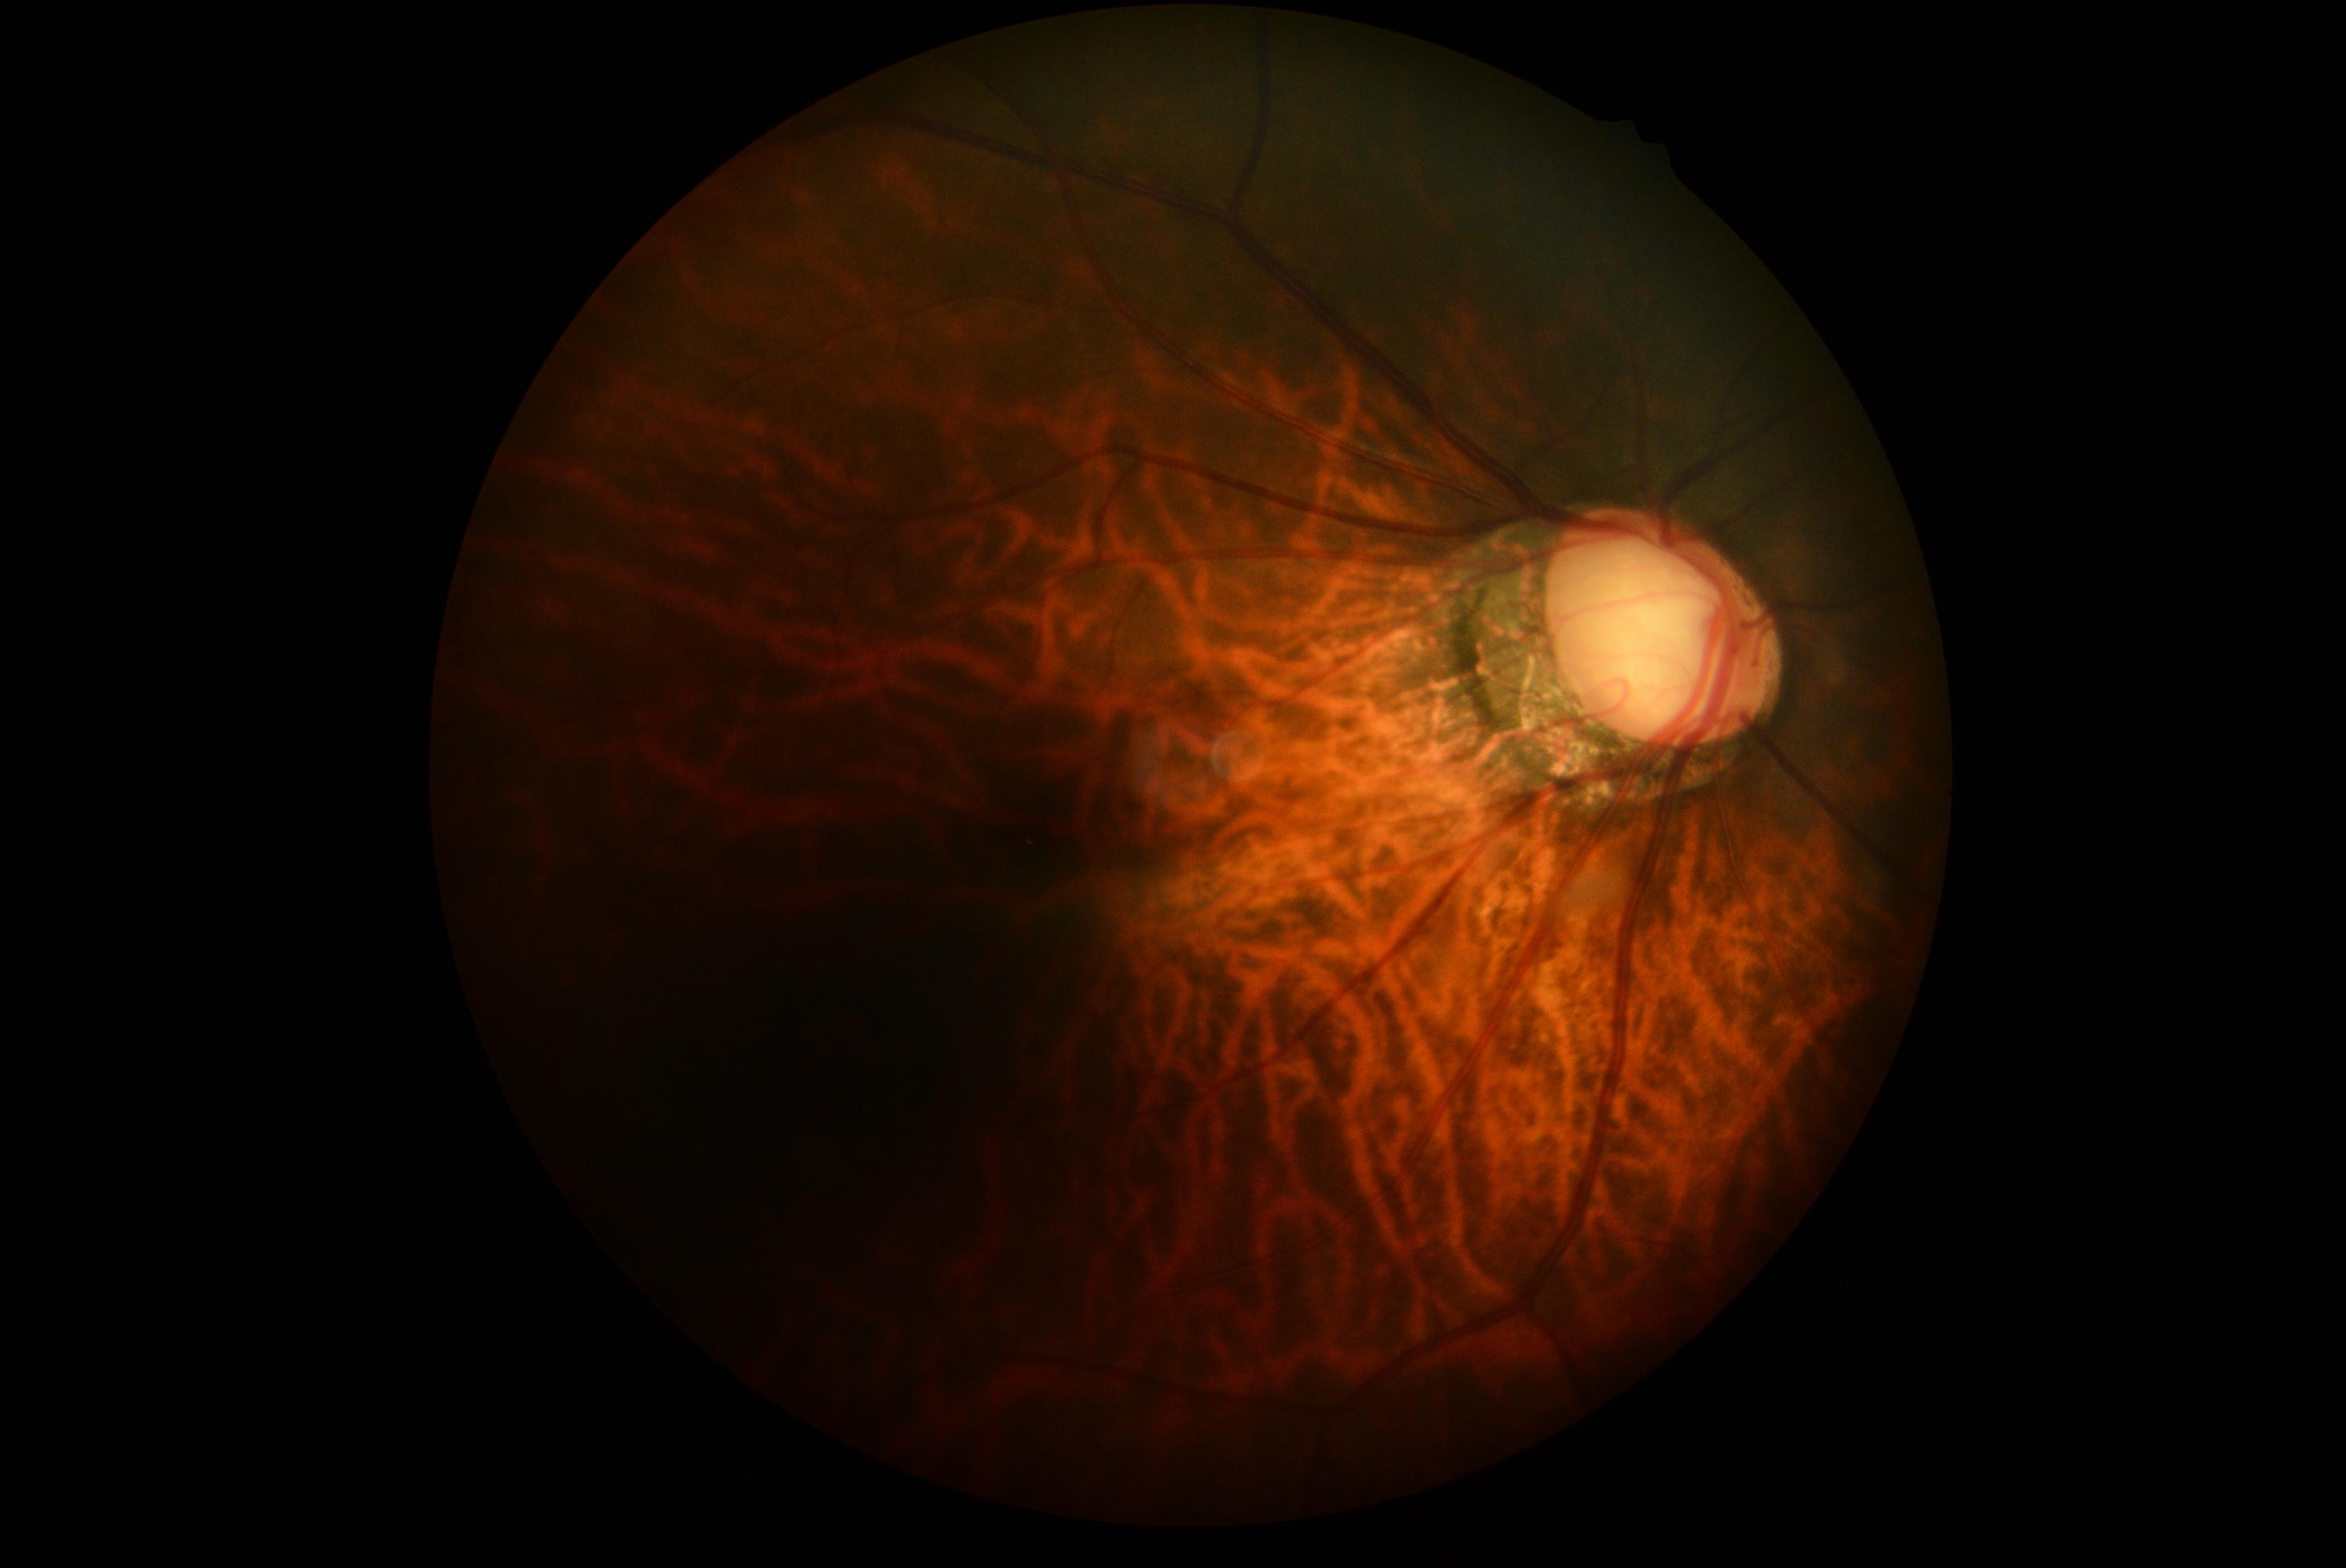Fovea: (957, 789, 1113, 940)
